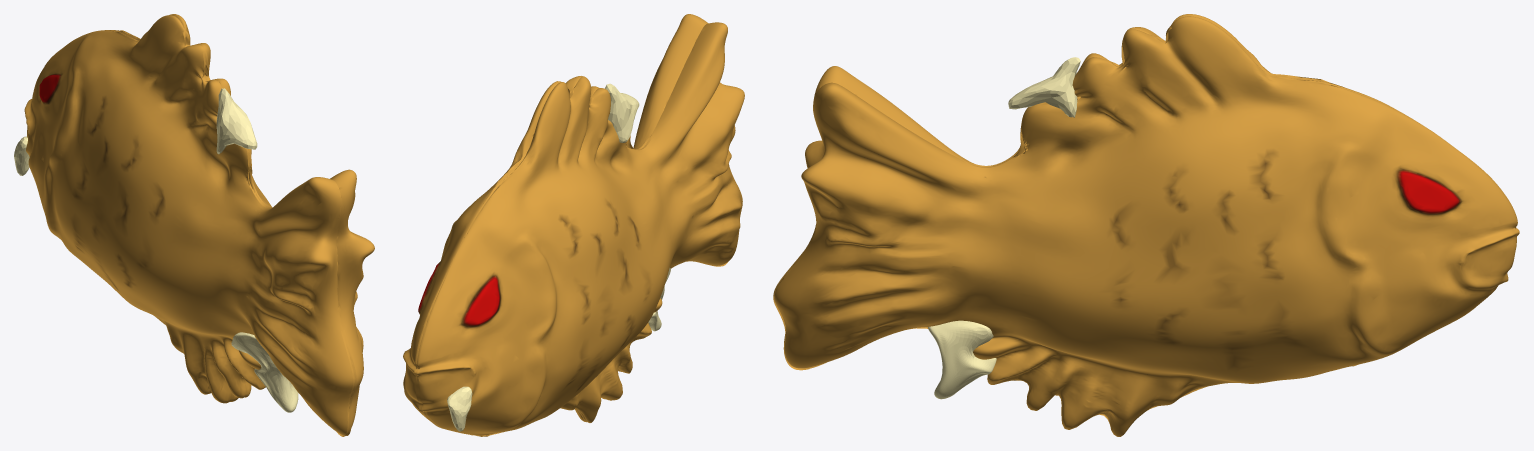
The model's file is ingLv2.fbx.
The picture shows the model from 3 angles, left to right: view 1: azimuth 30°, elevation 25°; view 2: azimuth 150°, elevation 25°; view 3: azimuth 270°, elevation 25°; orthographic projection. The views are drawn at different scales.
Visible parts, largest first — view 1: Quad_Sphere.001, Icosphere.002, Icosphere.001, Icosphere; view 2: Quad_Sphere.001, Icosphere.001, Icosphere; view 3: Quad_Sphere.001, Icosphere.002, Icosphere.001.
Boxes of the visible parts, x1,y1,x2,y2 form: Quad_Sphere.001: [24, 14, 374, 436]; Icosphere.002: [231, 332, 298, 412]; Icosphere.001: [216, 88, 257, 154]; Icosphere: [14, 136, 29, 175]; Quad_Sphere.001: [403, 14, 744, 436]; Icosphere.001: [605, 83, 639, 142]; Icosphere: [447, 386, 472, 431]; Quad_Sphere.001: [773, 14, 1519, 436]; Icosphere.002: [928, 320, 996, 399]; Icosphere.001: [1008, 57, 1080, 117].
Bounding box in the file's own units: 84.08 × 222 × 357.
